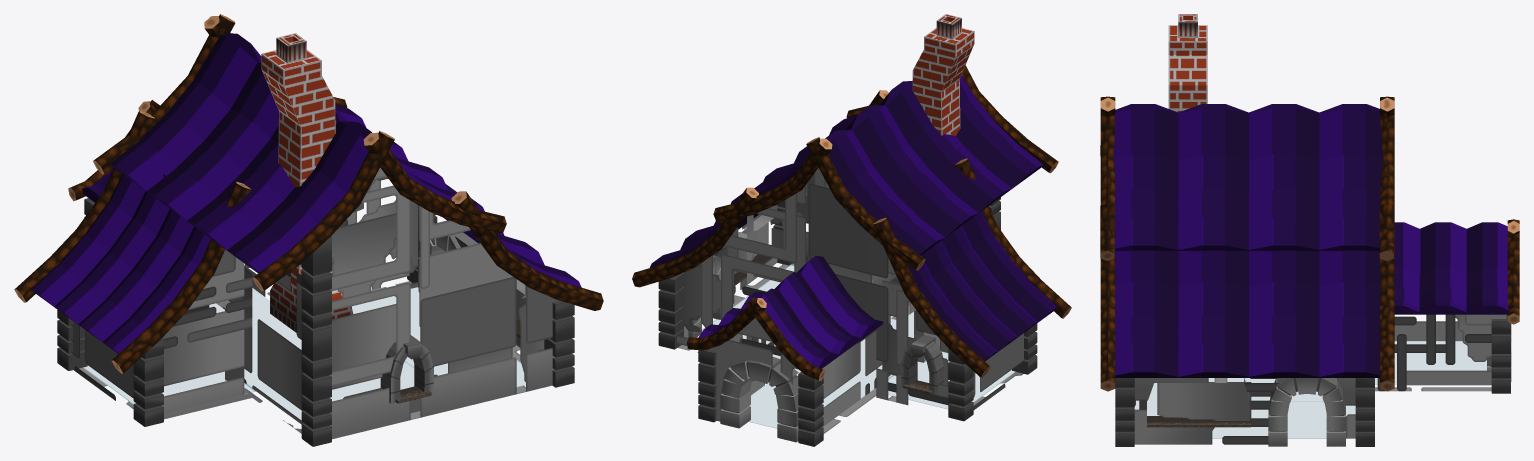
File: New House Merged.fbx
3 renders of one model, left to right at view 1: azimuth 30°, elevation 25°; view 2: azimuth 150°, elevation 25°; view 3: azimuth 270°, elevation 25°, orthographic. The views are drawn at different scales.
Parts seen in each view (by area): view 1: house_1; view 2: house_1; view 3: house_1.
Part boxes in pixels (x1=…): house_1: x1=14, y1=14, x2=603, y2=446; house_1: x1=632, y1=14, x2=1071, y2=446; house_1: x1=1100, y1=14, x2=1519, y2=446.
Bounding box in the file's own units: 1106 × 925 × 1079.
Materials: 8 (8 with a texture image).
